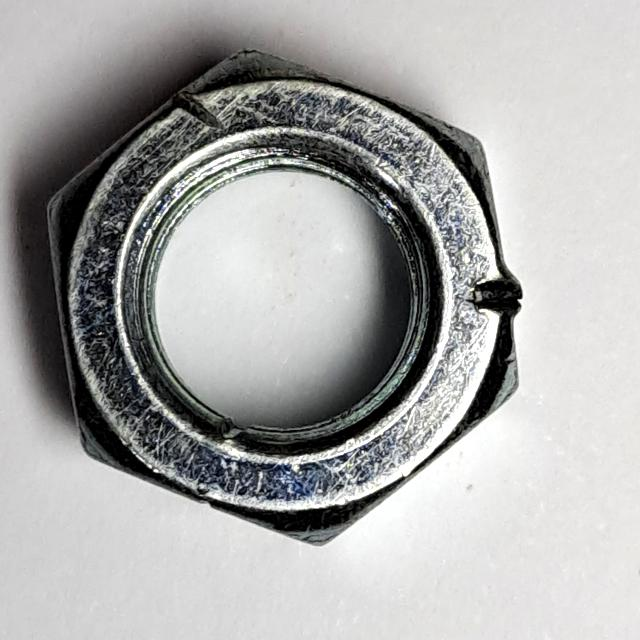Scratches: (29, 30, 547, 561)
